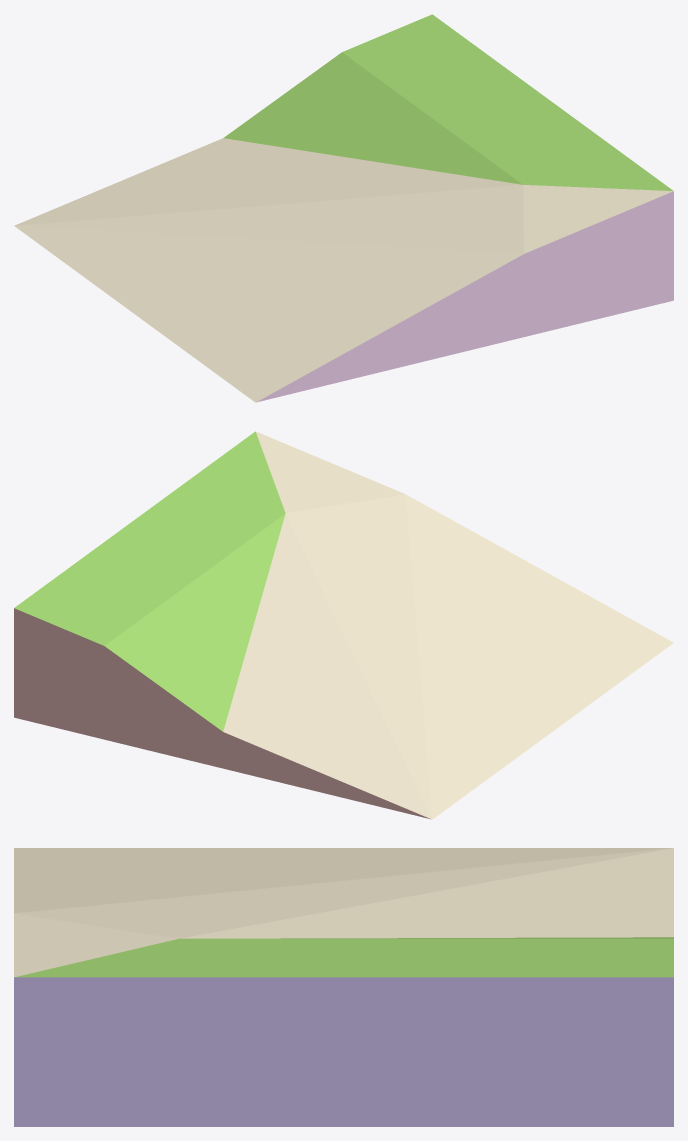
File: Path_Terrain_Transition_Grass_Side_Straight_1x1.fbx
The picture shows the model from 3 angles, top to bottom: view 1: azimuth 30°, elevation 25°; view 2: azimuth 150°, elevation 25°; view 3: azimuth 270°, elevation 25°; orthographic projection. The views are drawn at different scales.
Visible parts, largest first — view 1: Path_Terrain_Transition_Grass_Side_Straight_1x1; view 2: Path_Terrain_Transition_Grass_Side_Straight_1x1; view 3: Path_Terrain_Transition_Grass_Side_Straight_1x1.
Part boxes in pixels (x1,y1,x2,y2): Path_Terrain_Transition_Grass_Side_Straight_1x1: (14,14,673,402); Path_Terrain_Transition_Grass_Side_Straight_1x1: (14,431,673,819); Path_Terrain_Transition_Grass_Side_Straight_1x1: (14,848,673,1126).
Size of the model in its own units: 100 by 25 by 100.
